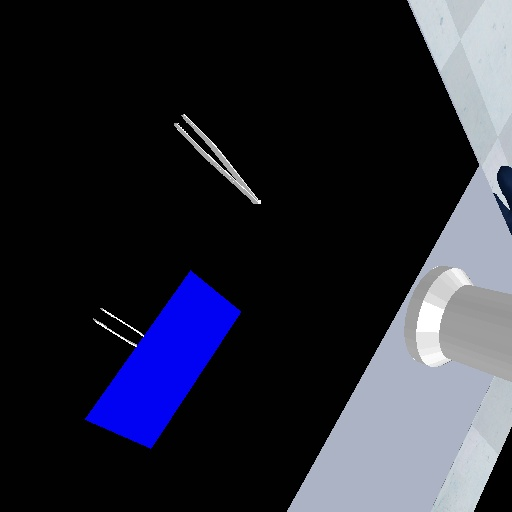pinza: (170, 106, 265, 208), (87, 305, 147, 349)
